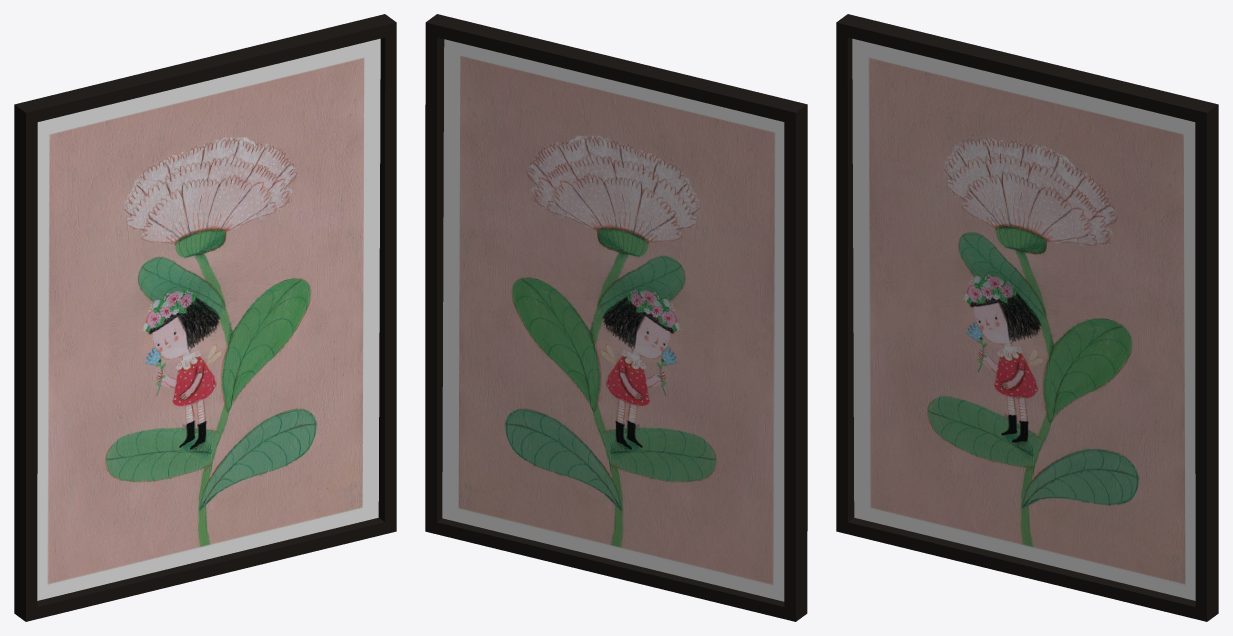
File: flickan_och_blomman_30x40_WEBB.glb
3 renders of one model, left to right at view 1: azimuth 30°, elevation 25°; view 2: azimuth 150°, elevation 25°; view 3: azimuth 330°, elevation 25°, orthographic.
Visible parts, largest first — view 1: P655208_vintervass_30x40_WEBB, Frame2; view 2: P655208_vintervass_30x40_WEBB, Frame2; view 3: P655208_vintervass_30x40_WEBB, Frame2.
Boxes of the visible parts, <box> form: P655208_vintervass_30x40_WEBB: <box>37,38,380,600</box>; Frame2: <box>14,14,396,621</box>; P655208_vintervass_30x40_WEBB: <box>442,39,784,601</box>; Frame2: <box>425,14,807,621</box>; P655208_vintervass_30x40_WEBB: <box>852,38,1195,600</box>; Frame2: <box>836,14,1218,621</box>.
Size of the model in its own units: 0.2576 by 0.3381 by 0.0143.
2 materials, 2 textured.
